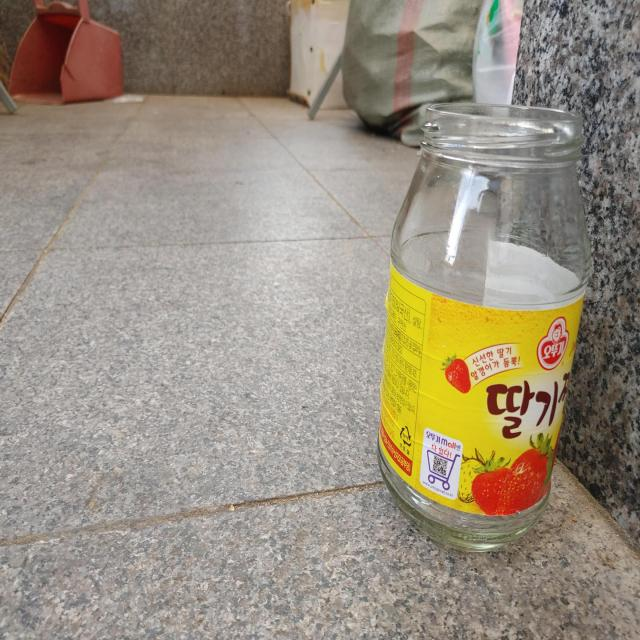glass: (379, 102, 592, 550)
